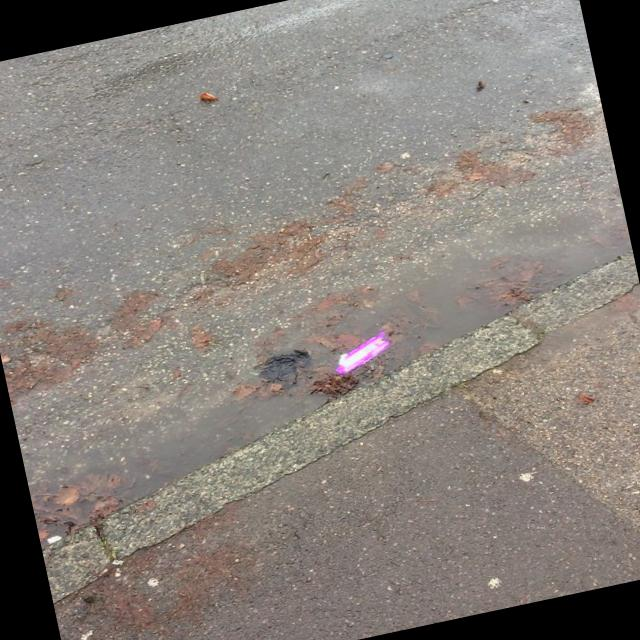Trash: (324, 328, 394, 376), (196, 92, 217, 108)
